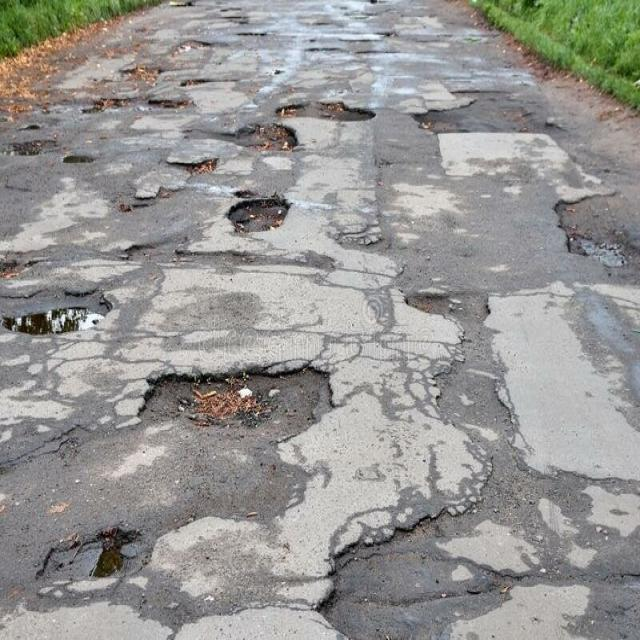Pothole: (10, 63, 632, 640), (168, 2, 446, 62)
